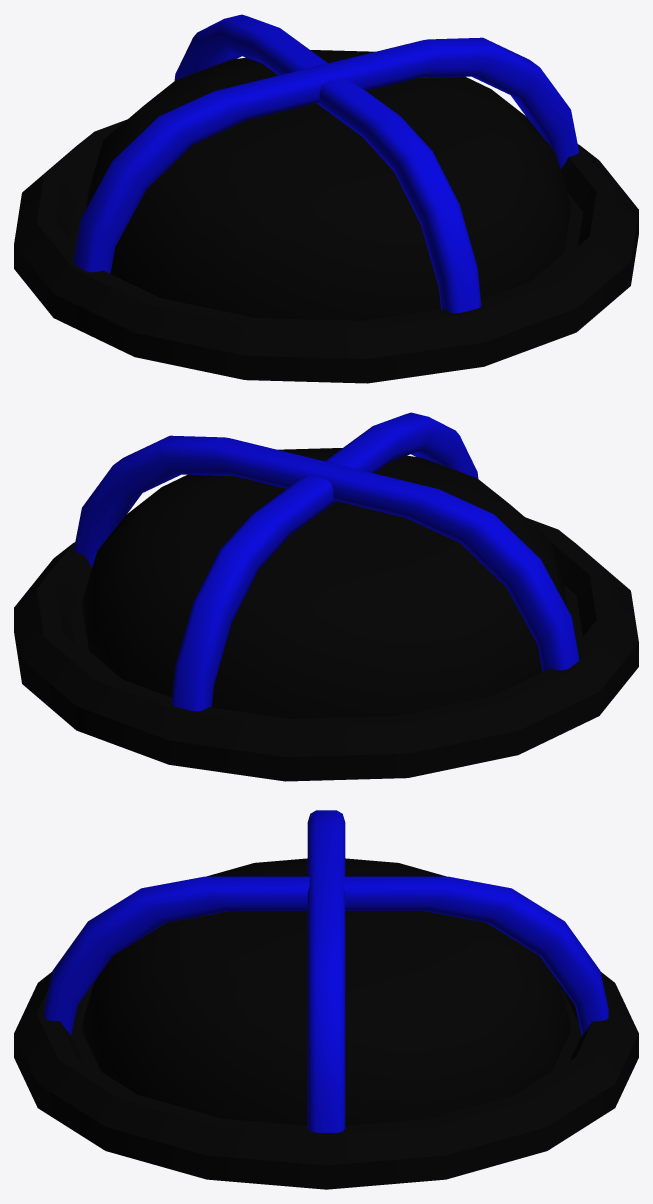
Rendered from SM_Indicator_Light.fbx.
3 renders of one model, top to bottom at view 1: azimuth 30°, elevation 25°; view 2: azimuth 150°, elevation 25°; view 3: azimuth 270°, elevation 25°, orthographic.
Parts seen in each view (by area): view 1: SM_Indicator_Light; view 2: SM_Indicator_Light; view 3: SM_Indicator_Light.
Part boxes in pixels (box(x1,y1,x2,y2)): SM_Indicator_Light: box(14, 14, 638, 383); SM_Indicator_Light: box(14, 412, 638, 781); SM_Indicator_Light: box(14, 810, 638, 1189).
Size of the model in its own units: 36.8 by 11.84 by 36.8.
